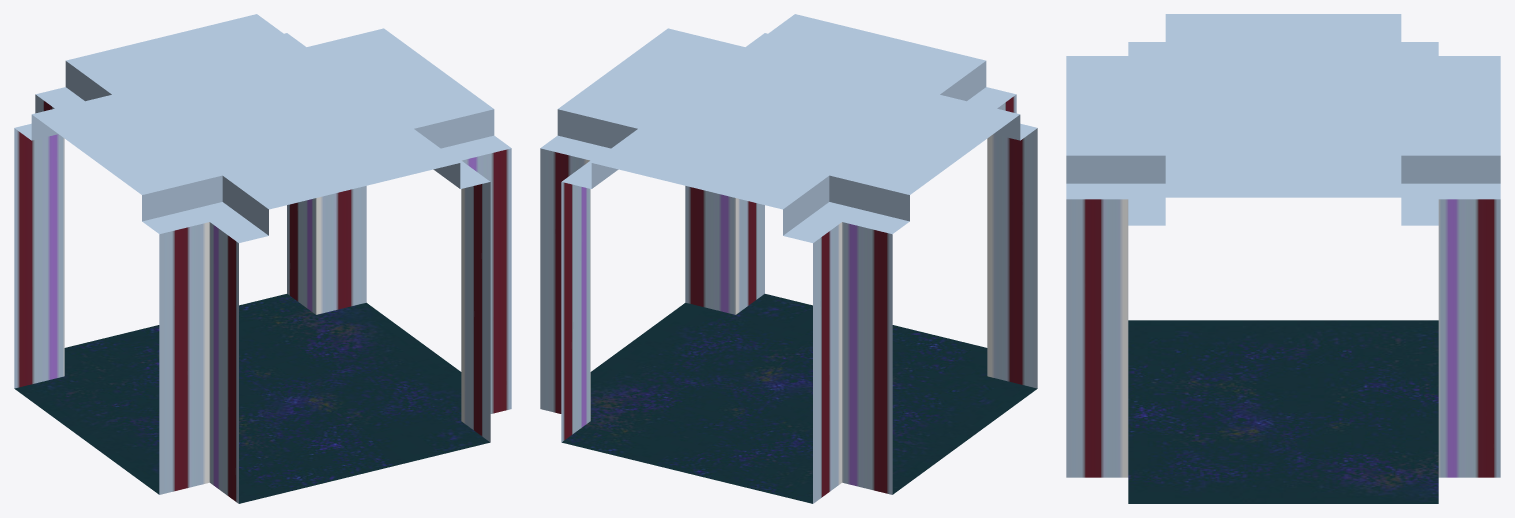
Rendered from Hall_XConector.fbx.
3 views of the same model, side by side, from view 1: azimuth 30°, elevation 25°; view 2: azimuth 150°, elevation 25°; view 3: azimuth 270°, elevation 25° (orthographic). The views are drawn at different scales.
Parts seen in each view (by area): view 1: Hall_XConector; view 2: Hall_XConector; view 3: Hall_XConector.
Part boxes in pixels (x1,y1,x2,y2): Hall_XConector: (14, 14, 511, 503); Hall_XConector: (540, 14, 1037, 503); Hall_XConector: (1066, 14, 1500, 503).
Bounding box in the file's own units: 280 × 218 × 280.
Materials: 2 (2 with a texture image).
